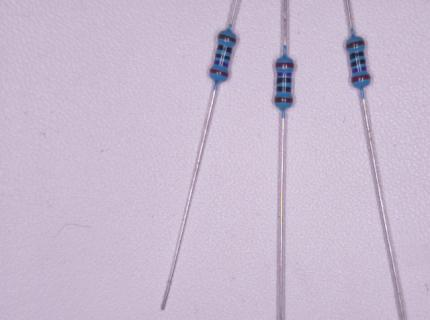Black band: (217, 45, 233, 53), (350, 51, 365, 59), (351, 59, 366, 67), (215, 54, 230, 61), (277, 78, 292, 84), (277, 87, 291, 92)
Brown band: (218, 34, 237, 43), (346, 40, 365, 49), (274, 97, 294, 103)
Red band: (352, 75, 370, 83), (210, 69, 228, 77), (275, 63, 293, 68)
Violet band: (214, 60, 228, 68), (352, 67, 366, 74), (277, 73, 291, 77)
